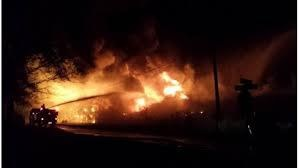fire: (30, 61, 197, 123), (128, 69, 191, 110)
